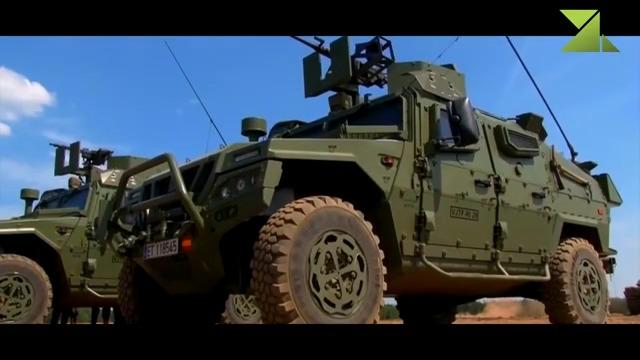MIL_HMMWV: (101, 89, 624, 325), (0, 178, 120, 326)
